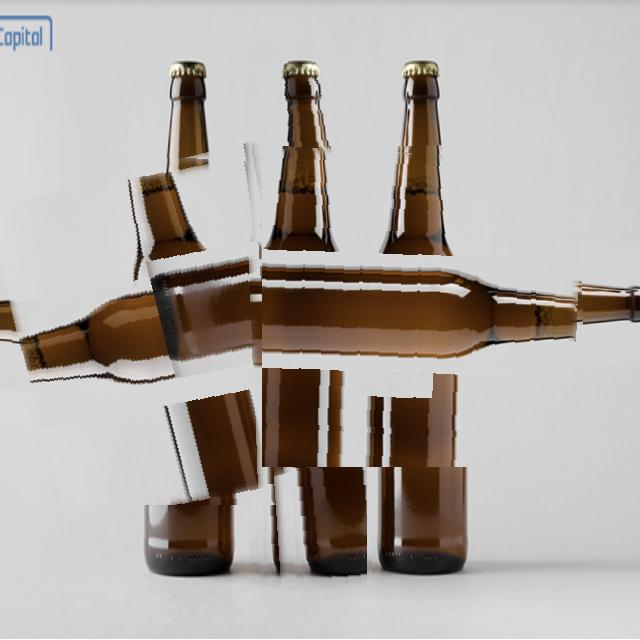recyclable: (2, 147, 361, 505), (262, 145, 584, 467), (245, 43, 368, 586)
